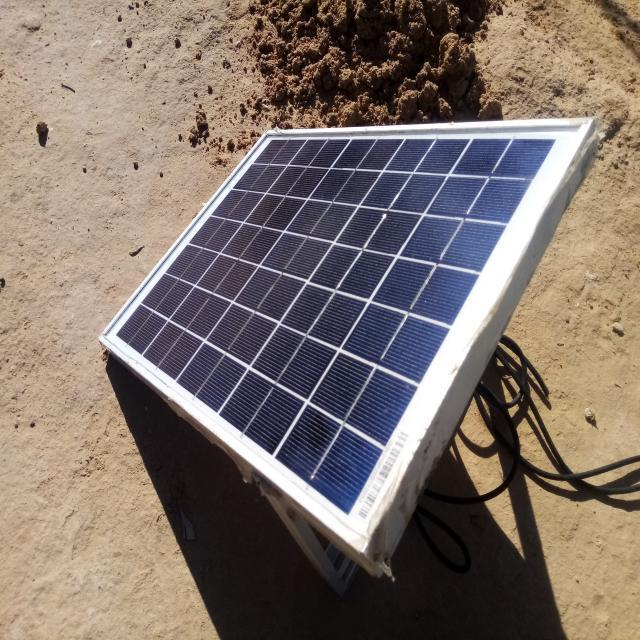Normal Solar Panel: (105, 119, 595, 554)
